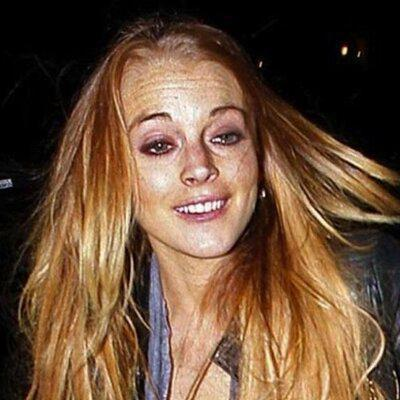Drunk: (124, 69, 258, 255)
